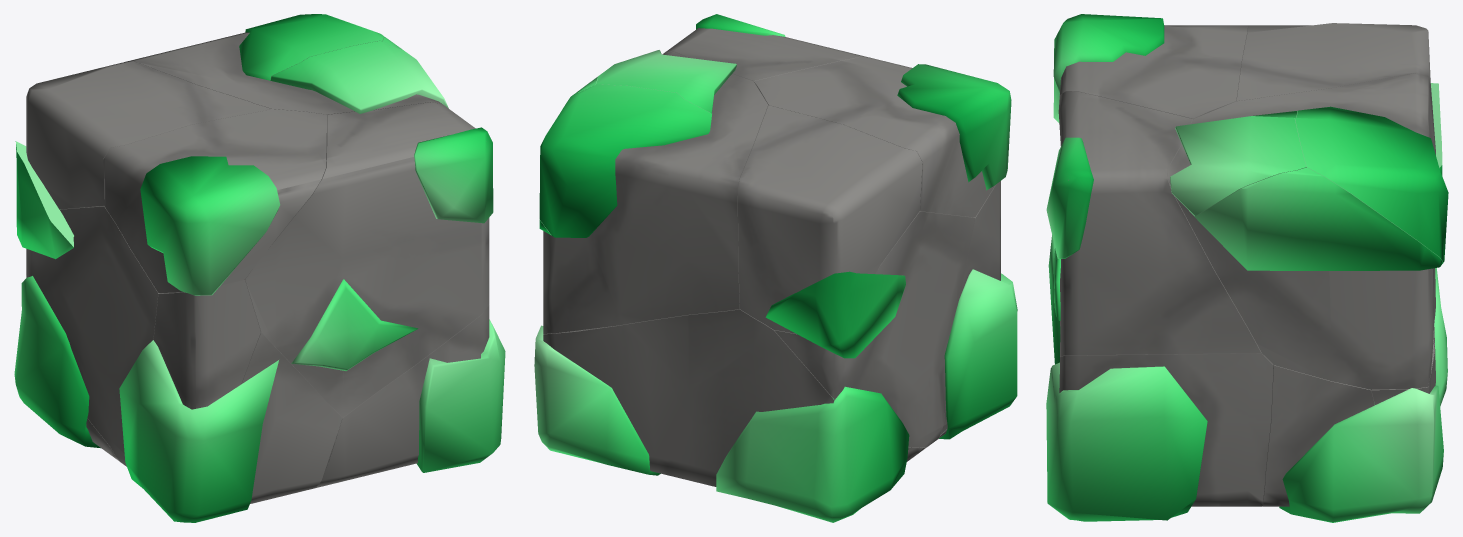
File: Emerald.fbx
The picture shows the model from 3 angles, left to right: view 1: azimuth 30°, elevation 25°; view 2: azimuth 150°, elevation 25°; view 3: azimuth 270°, elevation 25°; orthographic projection. The views are drawn at different scales.
Visible parts, largest first — view 1: Cube_Parts.036, Ore.034, Cube_Parts.037, Cube_Parts.030, Cube_Parts.031, Ore.023, Cube_Parts.038, Ore.021, Cube_Parts.035, Cube_Parts.032, Ore.033, Ore.038 (+5 smaller); view 2: Cube_Parts.039, Cube_Parts.037, Cube_Parts.034, Ore.033, Cube_Parts.030, Ore.036, Cube_Parts.031, Ore.034, Ore.018, Ore.041, Ore.023, Cube_Parts.036 (+3 smaller); view 3: Cube_Parts.036, Cube_Parts.039, Ore.021, Ore.037, Ore.018, Cube_Parts.032, Ore.036, Cube_Parts.037, Cube_Parts.031, Ore.038, Cube_Parts.033, Ore.023 (+5 smaller).
Boxes of the visible parts, x1=… form: Cube_Parts.036: x1=244, y1=102, x2=489, y2=418; Ore.034: x1=119, y1=340, x2=278, y2=522; Cube_Parts.037: x1=26, y1=61, x2=270, y2=209; Cube_Parts.030: x1=26, y1=206, x2=161, y2=466; Cube_Parts.031: x1=104, y1=109, x2=326, y2=292; Ore.023: x1=140, y1=156, x2=280, y2=295; Cube_Parts.038: x1=153, y1=279, x2=260, y2=409; Ore.021: x1=416, y1=319, x2=505, y2=472; Cube_Parts.035: x1=241, y1=332, x2=341, y2=503; Cube_Parts.032: x1=315, y1=305, x2=489, y2=488; Ore.033: x1=14, y1=276, x2=100, y2=448; Ore.038: x1=270, y1=41, x2=448, y2=113; Cube_Parts.039: x1=543, y1=51, x2=768, y2=334; Cube_Parts.037: x1=737, y1=105, x2=922, y2=333; Cube_Parts.034: x1=543, y1=309, x2=834, y2=486; Ore.033: x1=716, y1=386, x2=909, y2=522; Cube_Parts.030: x1=773, y1=211, x2=974, y2=447; Ore.036: x1=539, y1=84, x2=711, y2=237; Cube_Parts.031: x1=754, y1=56, x2=995, y2=217; Ore.034: x1=939, y1=269, x2=1017, y2=439; Ore.018: x1=534, y1=325, x2=660, y2=475; Ore.041: x1=765, y1=271, x2=905, y2=358; Ore.023: x1=897, y1=64, x2=1011, y2=190; Cube_Parts.036: x1=664, y1=28, x2=874, y2=81; Cube_Parts.036: x1=1058, y1=91, x2=1261, y2=356; Cube_Parts.039: x1=1167, y1=73, x2=1435, y2=389; Ore.021: x1=1046, y1=362, x2=1207, y2=521; Ore.037: x1=1195, y1=167, x2=1443, y2=270; Ore.018: x1=1279, y1=385, x2=1443, y2=522; Cube_Parts.032: x1=1059, y1=353, x2=1273, y2=506; Ore.036: x1=1295, y1=106, x2=1448, y2=262; Cube_Parts.037: x1=1236, y1=23, x2=1435, y2=154; Cube_Parts.031: x1=1060, y1=25, x2=1248, y2=118; Ore.038: x1=1170, y1=111, x2=1306, y2=216; Cube_Parts.033: x1=1262, y1=365, x2=1374, y2=506; Ore.023: x1=1053, y1=14, x2=1164, y2=122.
Bounding box in the file's own units: 226 × 221 × 216.
